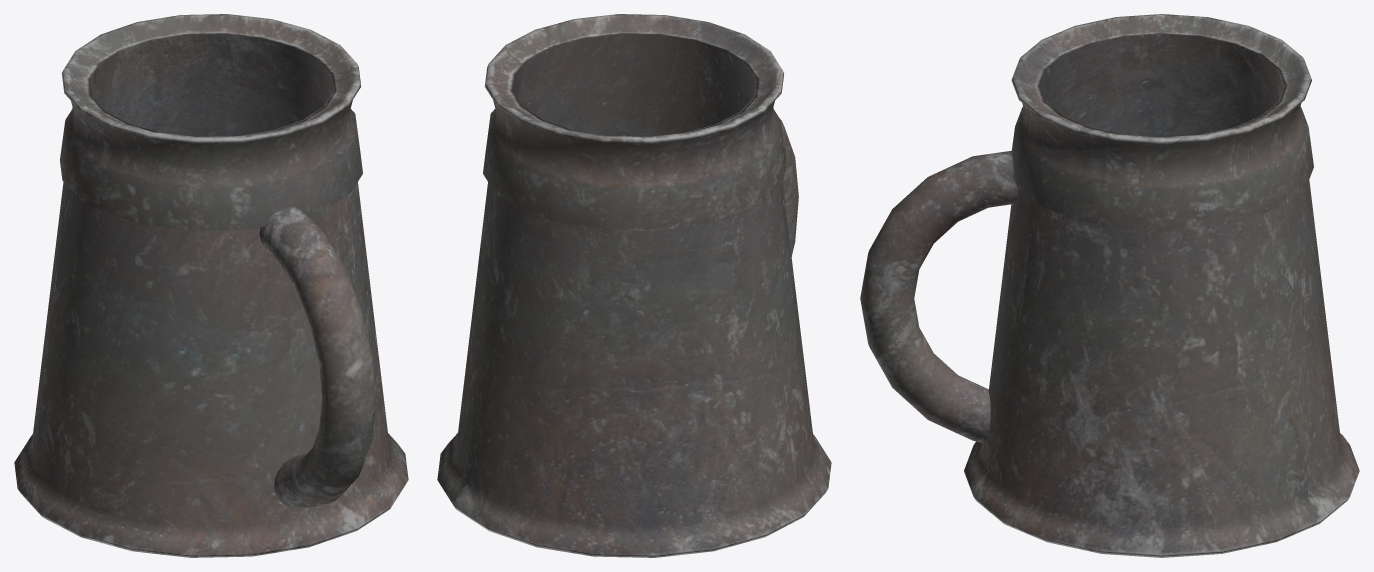
The model's file is SM_Mug.fbx.
3 views of the same model, side by side, from view 1: azimuth 30°, elevation 25°; view 2: azimuth 150°, elevation 25°; view 3: azimuth 270°, elevation 25° (orthographic).
Parts seen in each view (by area): view 1: SM_Mug_LOD0; view 2: SM_Mug_LOD0; view 3: SM_Mug_LOD0.
Boxes of the visible parts, box(x1,y1,x2,y2) form: SM_Mug_LOD0: box(14, 14, 408, 557); SM_Mug_LOD0: box(437, 14, 831, 557); SM_Mug_LOD0: box(860, 14, 1359, 557).
Bounding box in the file's own units: 18.22 × 22.99 × 20.24.
1 material, 1 textured.
